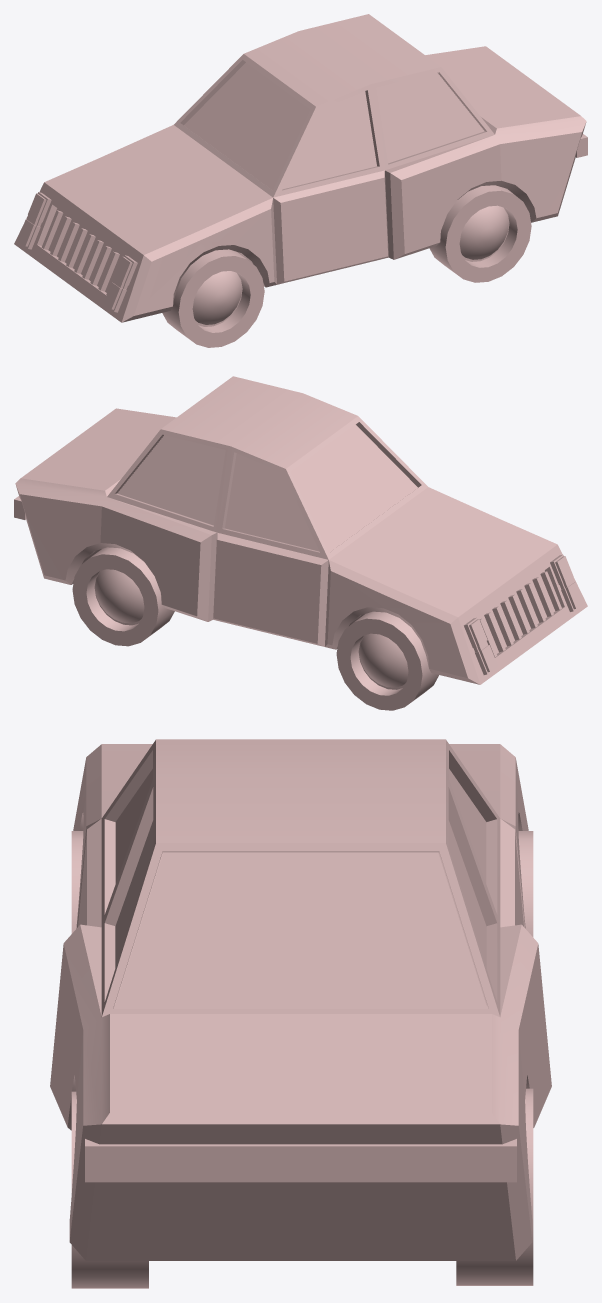
File: BROOOOOOOOOOOOOOOOOOOOM (1).fbx
The picture shows the model from 3 angles, top to bottom: view 1: azimuth 30°, elevation 25°; view 2: azimuth 150°, elevation 25°; view 3: azimuth 270°, elevation 25°; orthographic projection. The views are drawn at different scales.
Parts seen in each view (by area): view 1: Ferrari458Speciale; view 2: Ferrari458Speciale; view 3: Ferrari458Speciale.
Boxes of the visible parts, <box> form: Ferrari458Speciale: <box>14,14,587,347</box>; Ferrari458Speciale: <box>14,376,587,710</box>; Ferrari458Speciale: <box>50,739,551,1288</box>.
Size of the model in its own units: 4.85 by 2.02 by 2.23.
